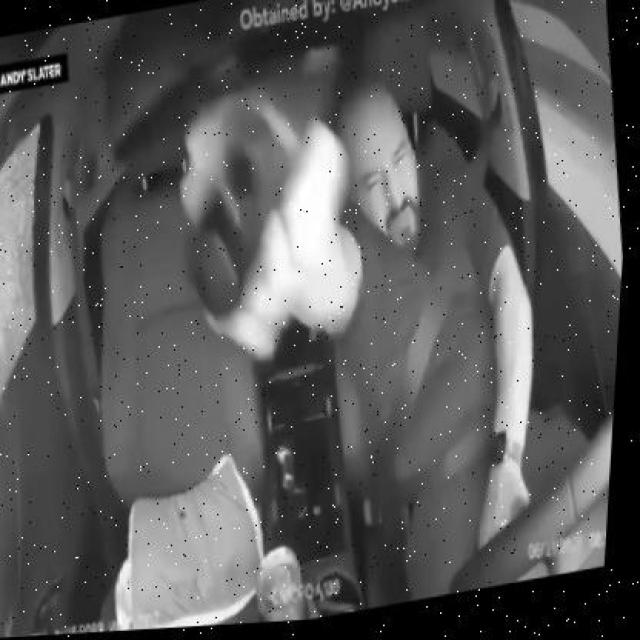weapon: (187, 44, 336, 317)
